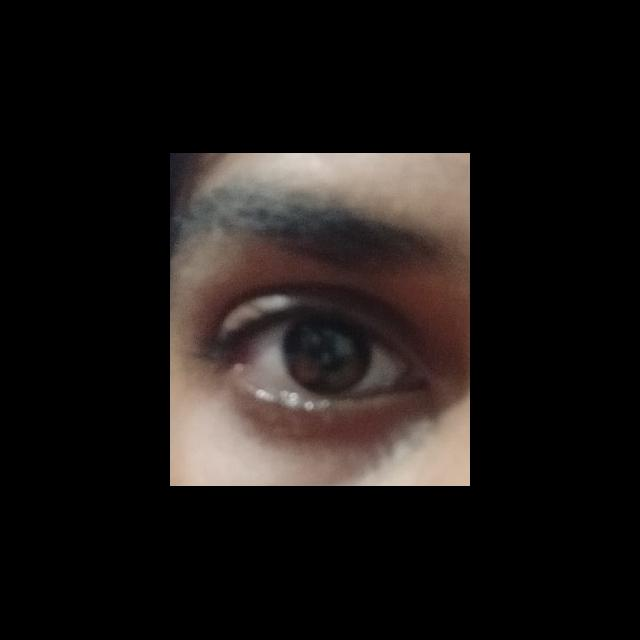eye: (242, 315, 407, 402)
iris: (283, 322, 372, 396)
